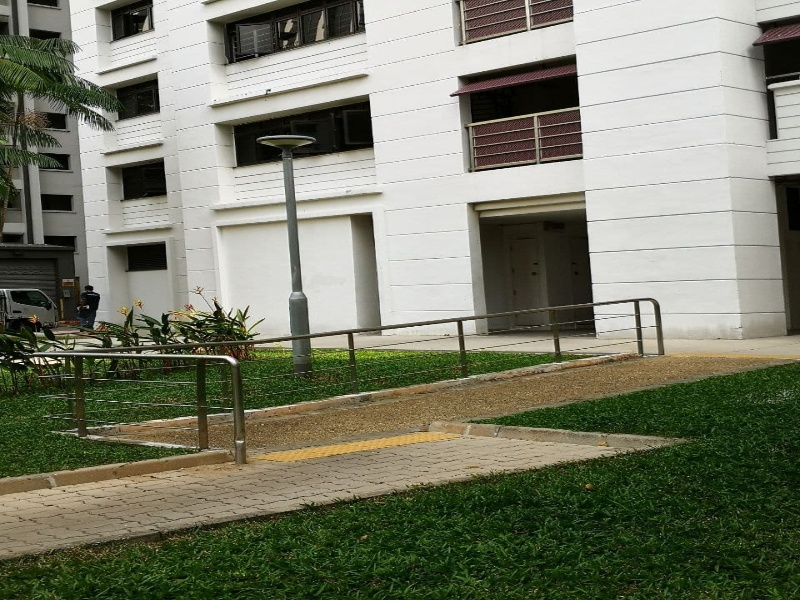slope: (50, 344, 644, 469)
